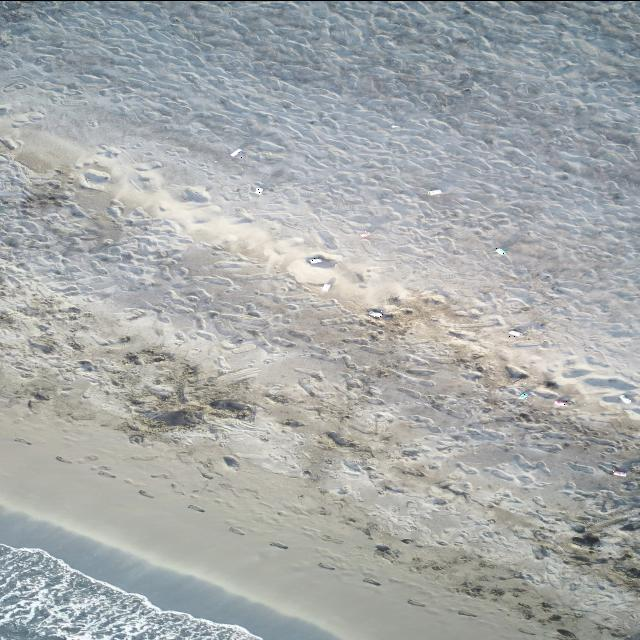Garbage: (326, 431, 355, 447), (572, 532, 600, 547), (183, 187, 208, 203), (504, 364, 527, 379), (307, 256, 335, 267), (620, 520, 639, 529), (368, 308, 384, 318), (270, 540, 287, 548), (619, 393, 631, 403), (612, 467, 626, 475), (408, 599, 424, 606), (427, 188, 442, 195), (553, 399, 567, 406), (308, 256, 322, 263), (231, 148, 243, 156), (322, 283, 331, 292), (508, 329, 520, 335), (518, 392, 527, 399), (360, 231, 369, 238), (495, 247, 505, 253), (255, 187, 261, 193), (391, 124, 397, 128), (631, 637, 632, 639)
